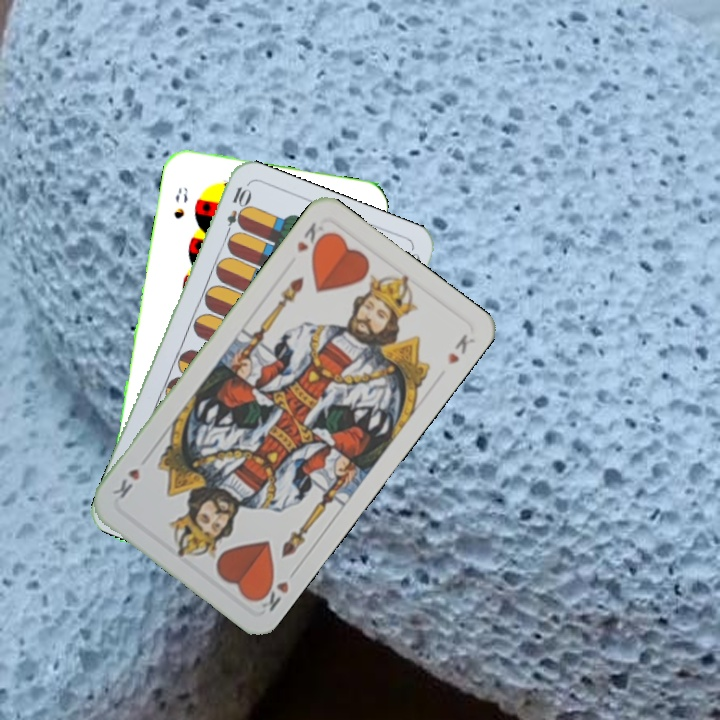E10: (220, 182, 251, 241)
HK: (252, 564, 301, 614), (292, 218, 331, 258)
S8: (170, 183, 191, 222)
